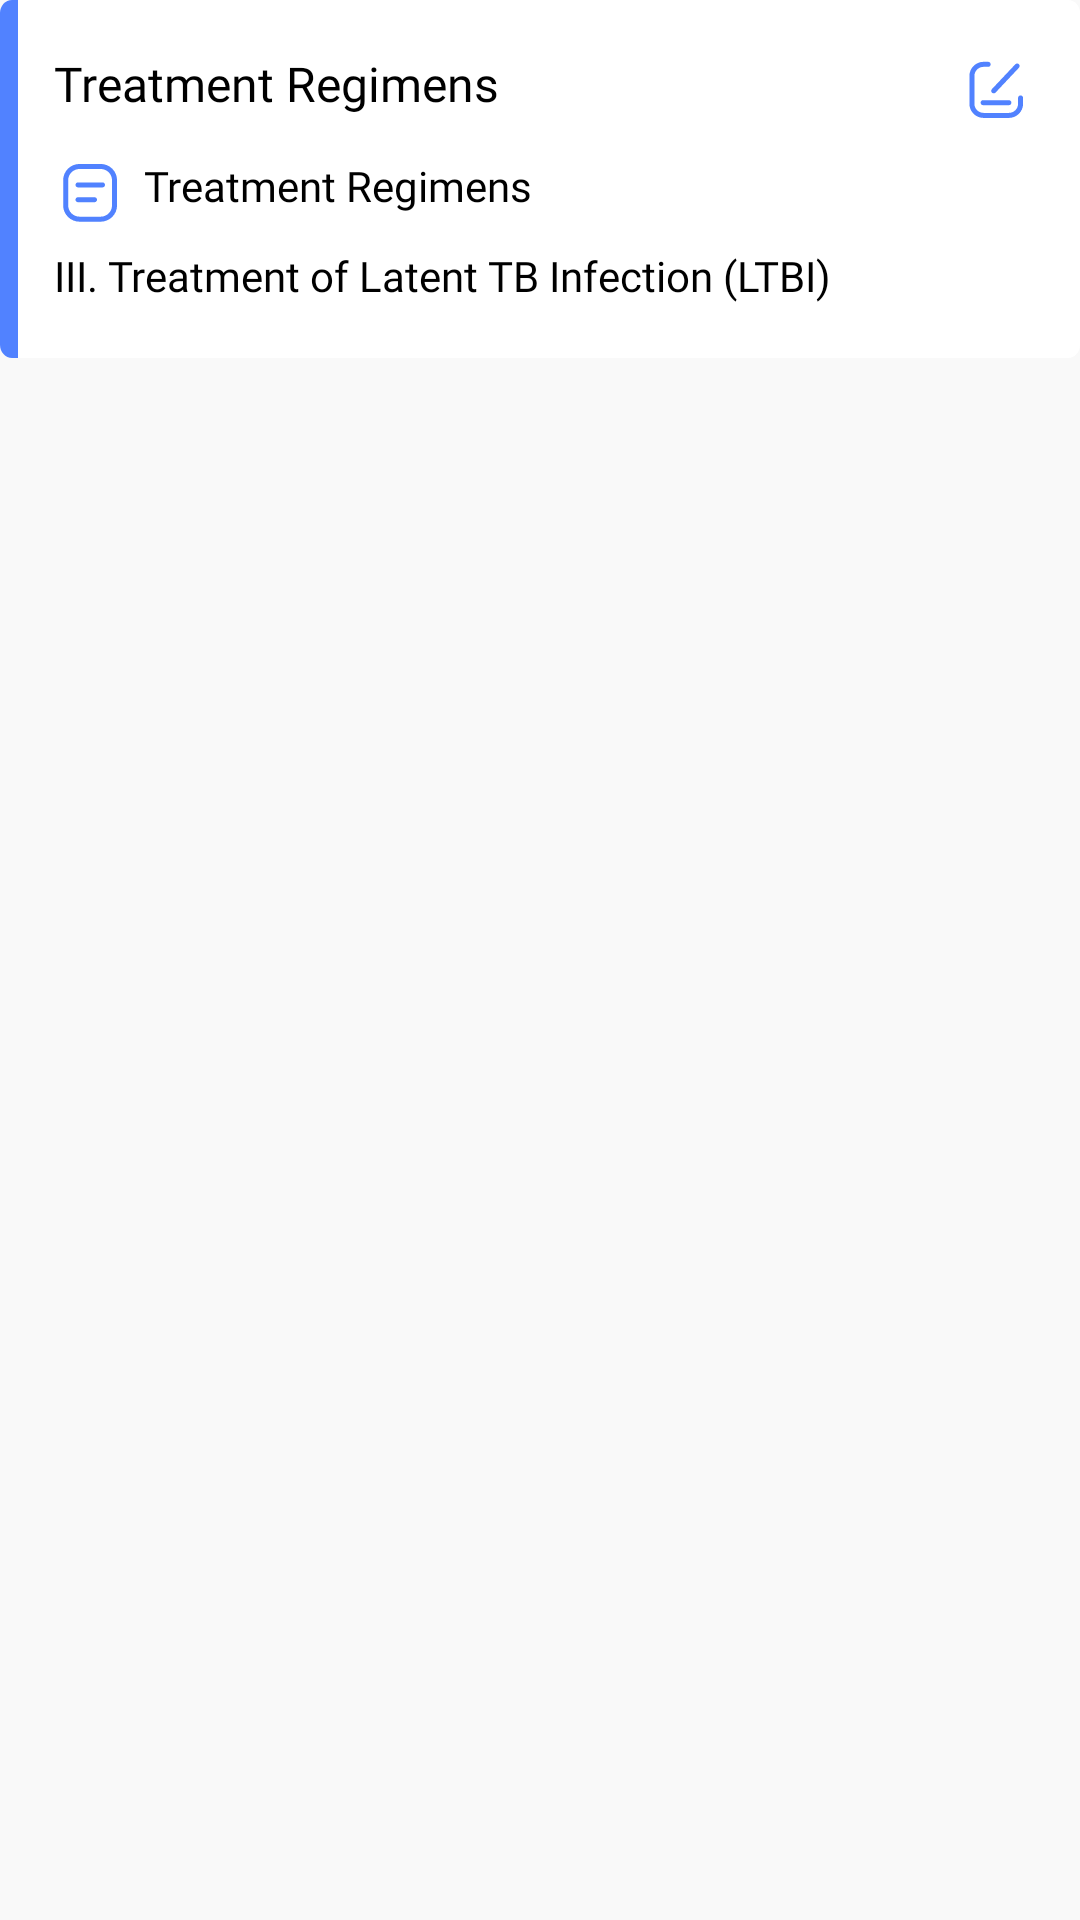

Screen size 1080*1920. Icon name, then its box in pixels as (x1, y1, x2, y2):
Edit bookmark: (969, 61, 1023, 118)
